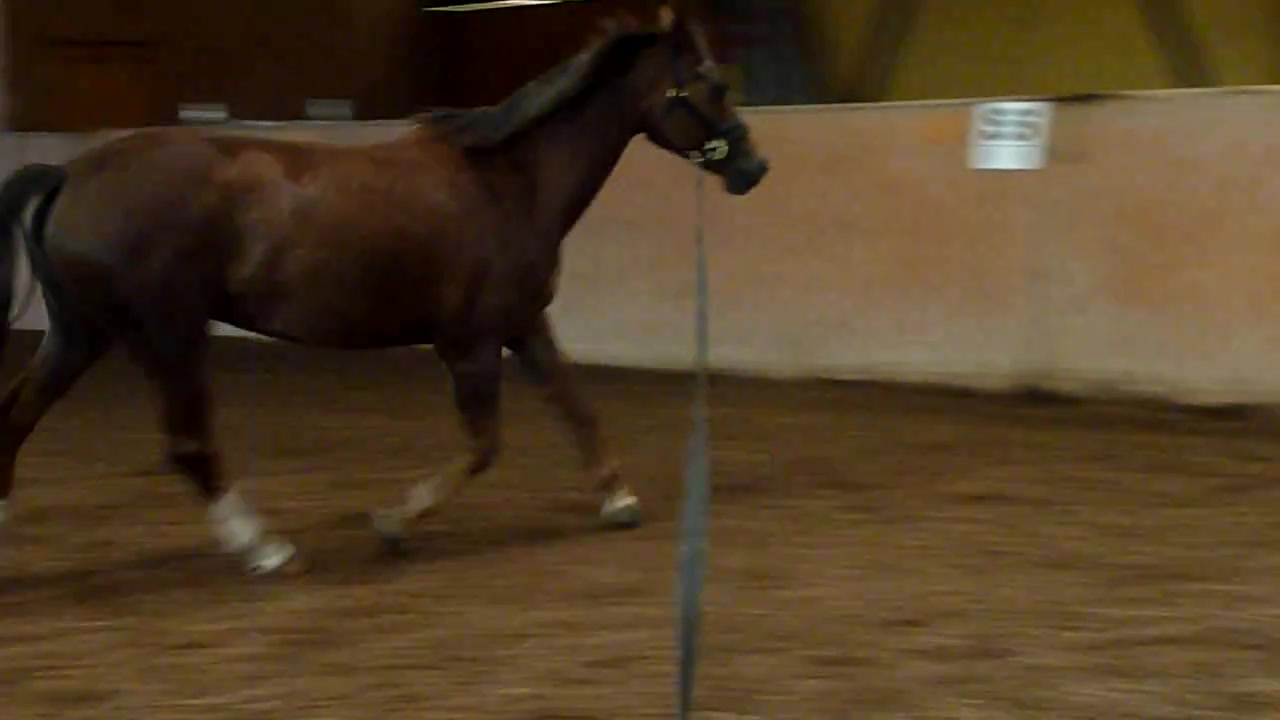horse: (1, 3, 786, 576)
